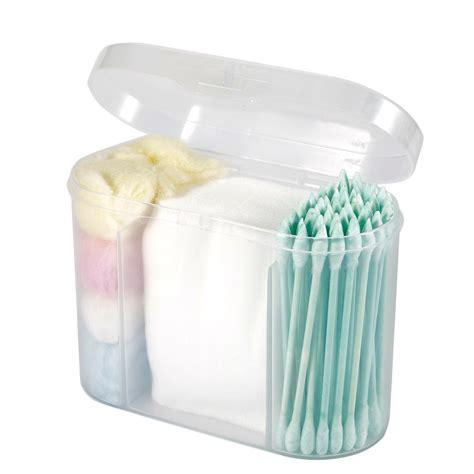cotton: (147, 172, 280, 432), (283, 173, 389, 454), (71, 139, 158, 415)
